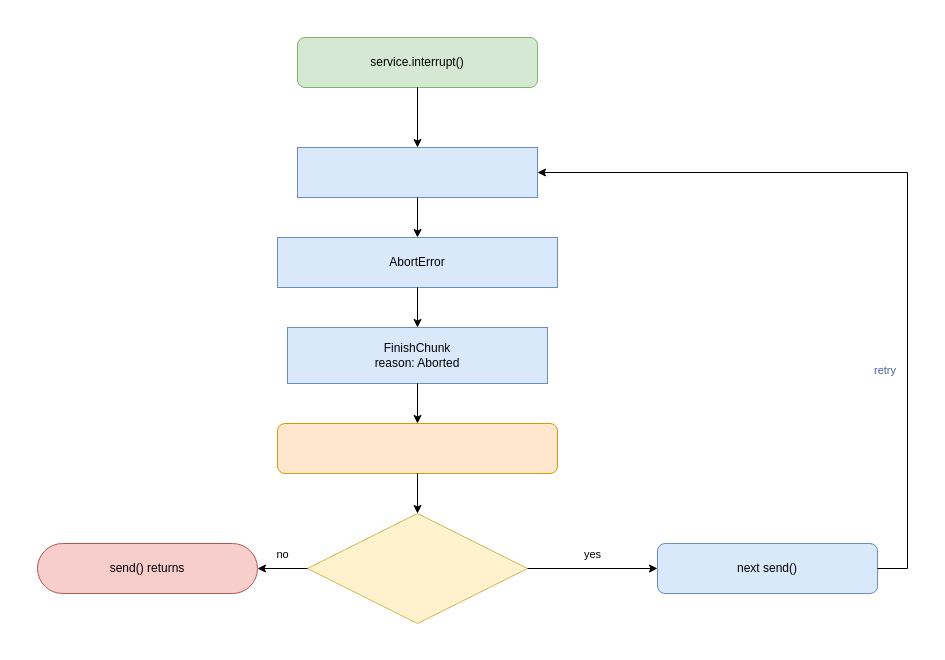
The diagram is 945 pixels wide and 660 high, and some of its shapes have lost their labels. The box of each missing label's shape, as (x1, y1, x2, y2) in pixels:
abortController.abort(): (296, 146, 538, 198)
needsResend?: (306, 512, 528, 624)
stream finish hooks: (276, 422, 558, 474)
